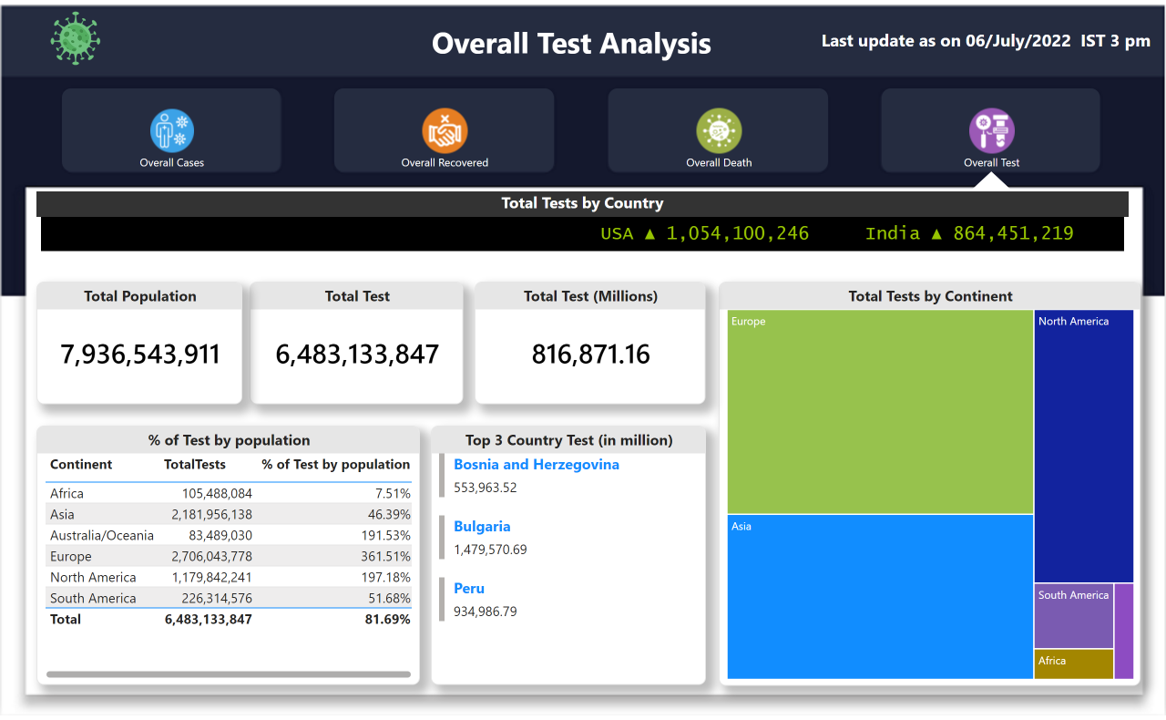

What the dashboard file says about the page in this screenshot:
{"tool":"powerbi","page":{"name":"Overall Test","canvas":[1280,780],"ordinal":3},"visuals":[{"type":"textbox","box":[469.2,14.2,341.6,59.5],"z":0},{"type":"actionButton","box":[68,92.1,239.6,90.7],"z":1000},{"type":"actionButton","box":[367.1,92.1,241,90.7],"z":2000},{"type":"actionButton","box":[667.6,91.7,241,90.7],"z":3000},{"type":"actionButton","box":[968.2,91.7,239.6,90.7],"z":4000},{"type":"shape","box":[1064.4,182.9,48.3,22.4],"z":5000},{"type":"textbox","box":[874.6,20.7,393.3,46.6],"z":6000},{"type":"tableEx","title":"% of Test by population","fields":{"Values":["Covid_Data.Continent","Sum(Covid_Data.TotalTests)","Calculated Measure.% of Test by population"]},"box":[39.7,462.3,420.9,284.6],"z":7000},{"type":"multiRowCard","title":"Top 3 Country Test (in million)","fields":{"Values":["Covid_Data.Country","Calculated Measure.Overall Test Cases (millions)"]},"box":[472.7,462.3,301.9,284.6],"z":8000},{"type":"treemap","title":"Total Tests by Continent","fields":{"Group":["Covid_Data.Continent"],"Values":["Sum(Covid_Data.TotalTests)"]},"box":[788.6,303.8,463.2,443.5],"z":9000},{"type":"card","title":"Total Test","fields":{"Values":["Sum(Covid_Data.TotalTests)"]},"box":[274.3,303.6,234.6,134.6],"z":10000},{"type":"card","title":"Total Test (Millions)","fields":{"Values":["Calculated Measure.Overall Test Cases (millions)"]},"box":[521,303.6,253.6,134.6],"z":11000},{"type":"card","title":"Total Population","fields":{"Values":["Sum(Covid_Data.Population)"]},"box":[39.7,303.6,226,134.6],"z":12000},{"type":"ScrollingTextVisual1448795304508","title":"Total Tests by Country","fields":{"Category":["Covid_Data.Country"],"Measure Deviation":["Sum(Covid_Data.TotalTests)"]},"box":[39.7,205.3,1198.9,70.7],"z":13000},{"type":"image","box":[0,0,165.6,74.2],"z":14000}]}

Visuals, with their boxes in screenshot pixels (x1, y1, x2, y2), scaled from the page's 1280x780 canvas onto the 1166x720 screenshot:
textbox: (x1=427, y1=13, x2=739, y2=68)
actionButton: (x1=62, y1=85, x2=280, y2=169)
actionButton: (x1=334, y1=85, x2=554, y2=169)
actionButton: (x1=608, y1=85, x2=828, y2=168)
actionButton: (x1=882, y1=85, x2=1100, y2=168)
shape: (x1=970, y1=169, x2=1014, y2=190)
textbox: (x1=797, y1=19, x2=1155, y2=62)
"% of Test by population" tableEx: (x1=36, y1=427, x2=420, y2=689)
"Top 3 Country Test (in million)" multiRowCard: (x1=431, y1=427, x2=706, y2=689)
"Total Tests by Continent" treemap: (x1=718, y1=280, x2=1140, y2=690)
"Total Test" card: (x1=250, y1=280, x2=464, y2=404)
"Total Test (Millions)" card: (x1=475, y1=280, x2=706, y2=404)
"Total Population" card: (x1=36, y1=280, x2=242, y2=404)
"Total Tests by Country" ScrollingTextVisual1448795304508: (x1=36, y1=190, x2=1128, y2=255)
image: (x1=0, y1=0, x2=151, y2=68)
